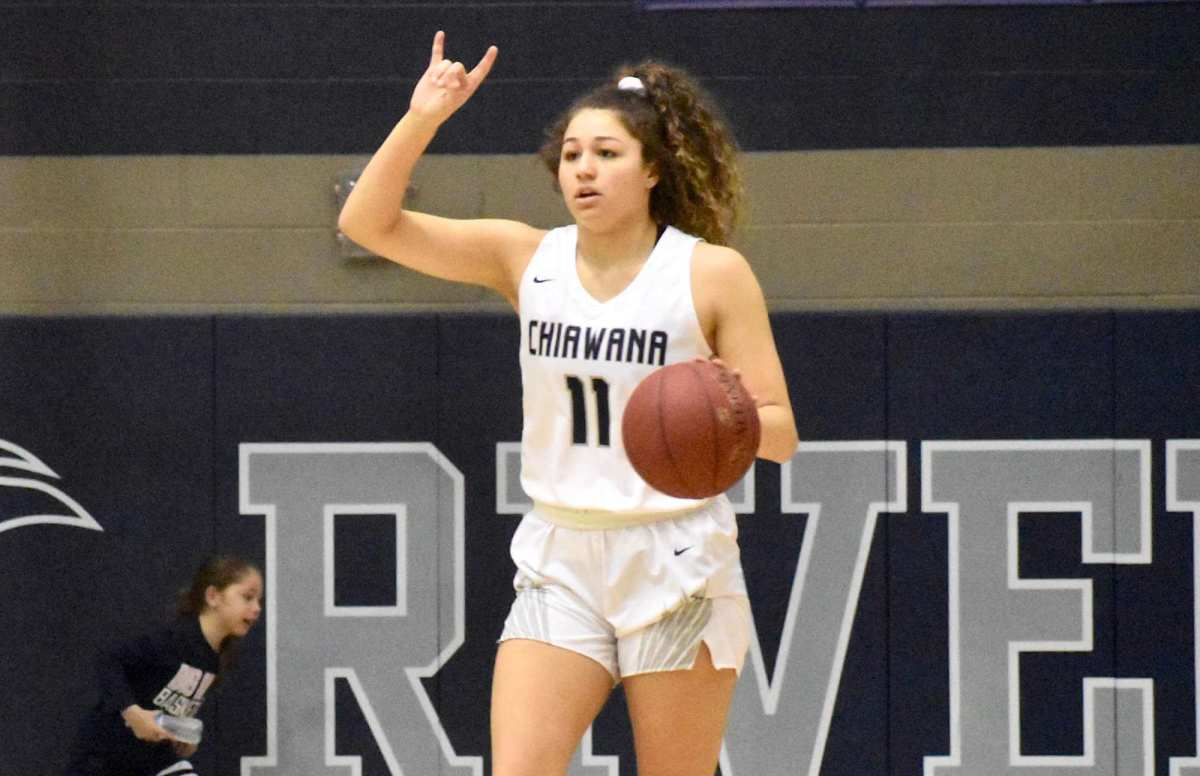b_ball: (608, 352, 769, 500)
face: (544, 90, 733, 236)
player: (340, 16, 802, 776)
